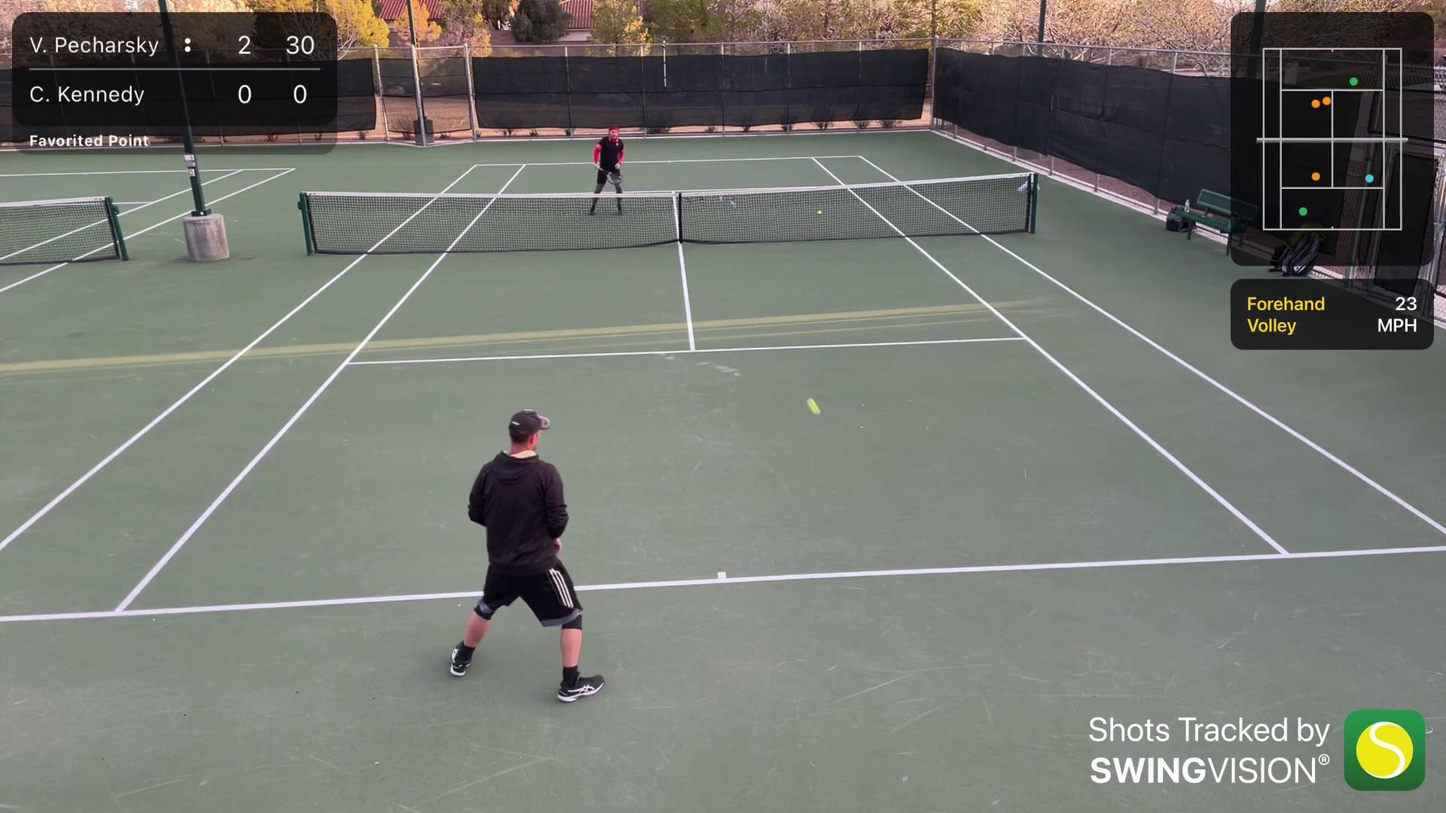ball: (805, 394, 822, 417), (816, 209, 823, 216)
